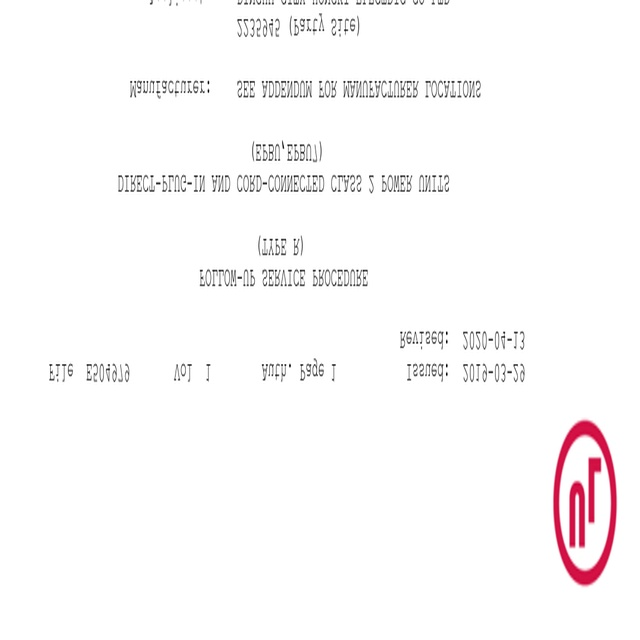ul: (551, 419, 618, 587)
